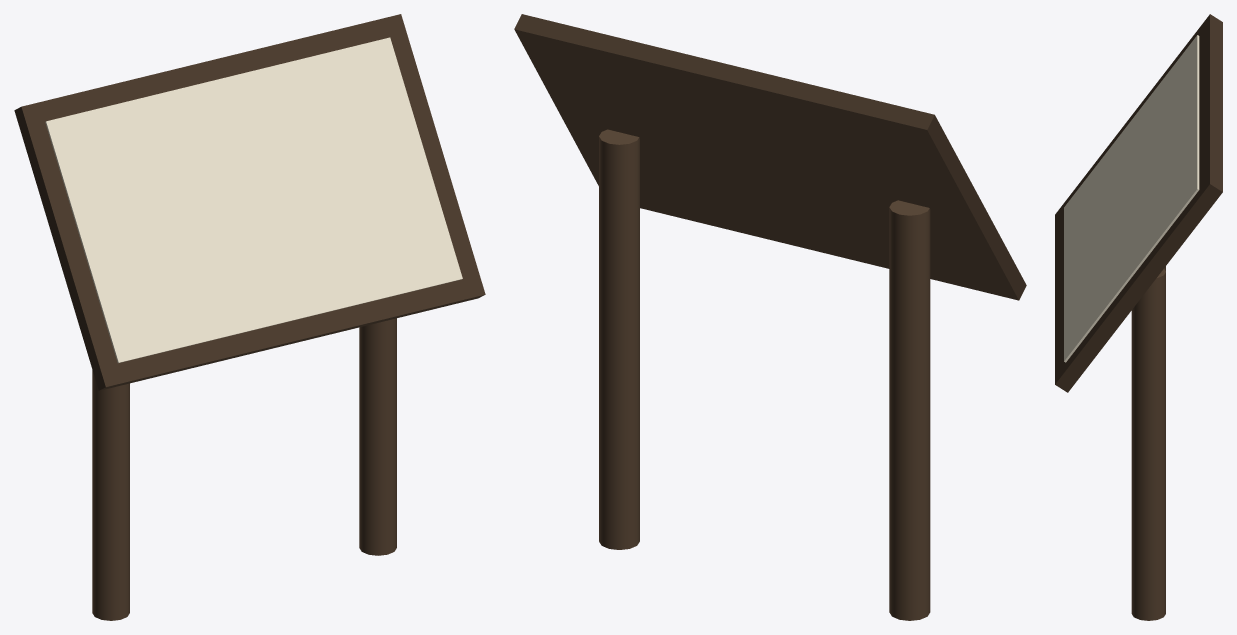
File: sign.glb
The picture shows the model from 3 angles, left to right: view 1: azimuth 30°, elevation 25°; view 2: azimuth 150°, elevation 25°; view 3: azimuth 270°, elevation 25°; orthographic projection. The views are drawn at different scales.
Visible parts, largest first — view 1: face3, frame2, post0, post1; view 2: frame2, post0, post1; view 3: face3, post1, frame2.
Boxes of the visible parts, x1,y1,x2,y2 form: face3: [45, 37, 462, 362]; frame2: [14, 14, 485, 390]; post0: [92, 370, 129, 620]; post1: [359, 318, 396, 555]; frame2: [514, 14, 1026, 300]; post0: [889, 200, 930, 620]; post1: [599, 129, 639, 549]; face3: [1064, 35, 1199, 362]; post1: [1131, 269, 1165, 620]; frame2: [1055, 14, 1222, 392].
Bounding box in the file's own units: 1.28 × 1.6 × 0.5342.
